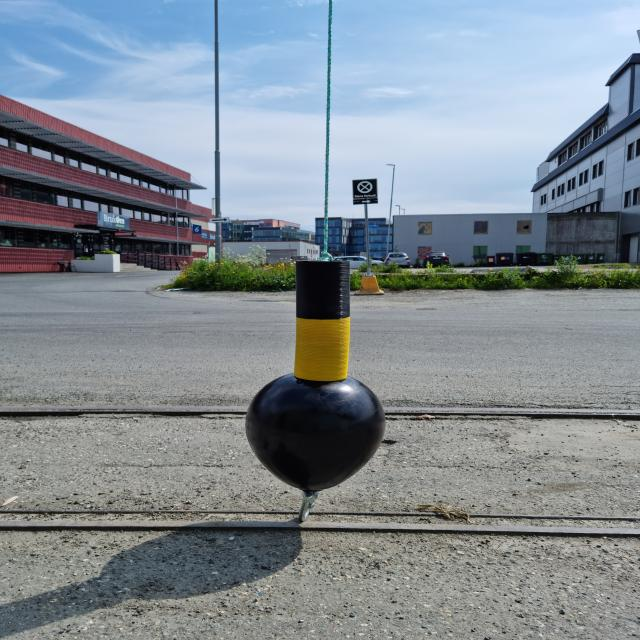east: (242, 262, 385, 492)
